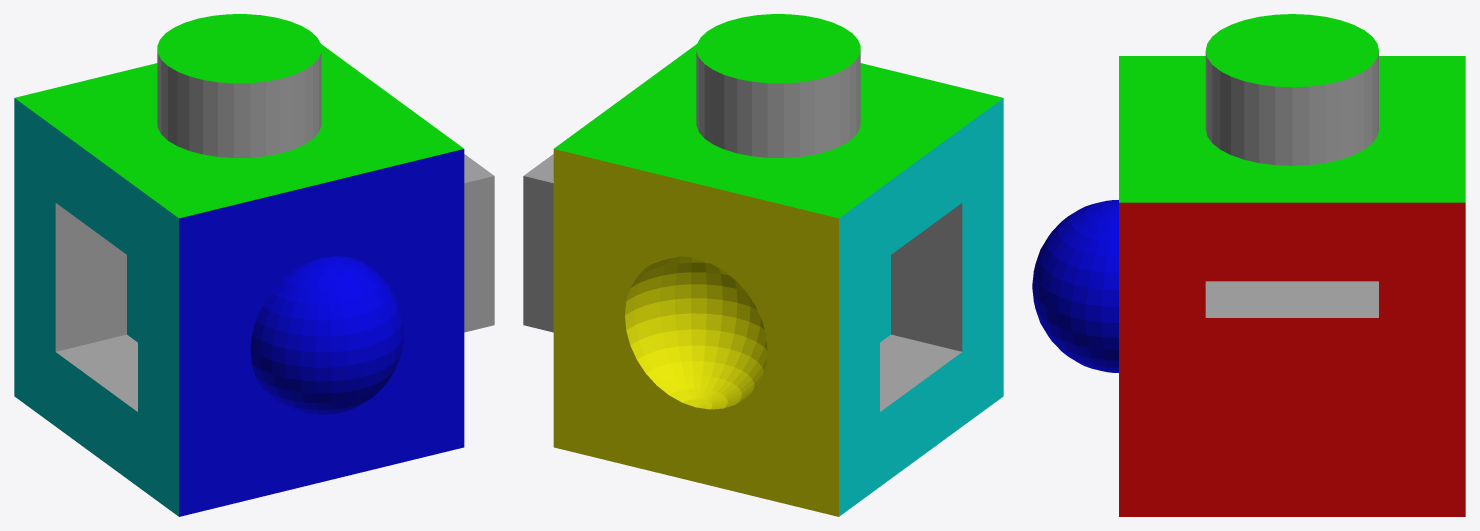
The model's file is OrientationCube.dae.
3 views of the same model, side by side, from view 1: azimuth 30°, elevation 25°; view 2: azimuth 150°, elevation 25°; view 3: azimuth 270°, elevation 25° (orthographic). The views are drawn at different scales.
Visible parts, largest first — view 1: Cube; view 2: Cube; view 3: Cube.
Part boxes in pixels (left/top/right/bottom): Cube: left=14, top=14, right=494, bottom=516; Cube: left=523, top=14, right=1003, bottom=516; Cube: left=1032, top=14, right=1465, bottom=516.
Bounding box in the file's own units: 1.25 × 1.25 × 1.25.
